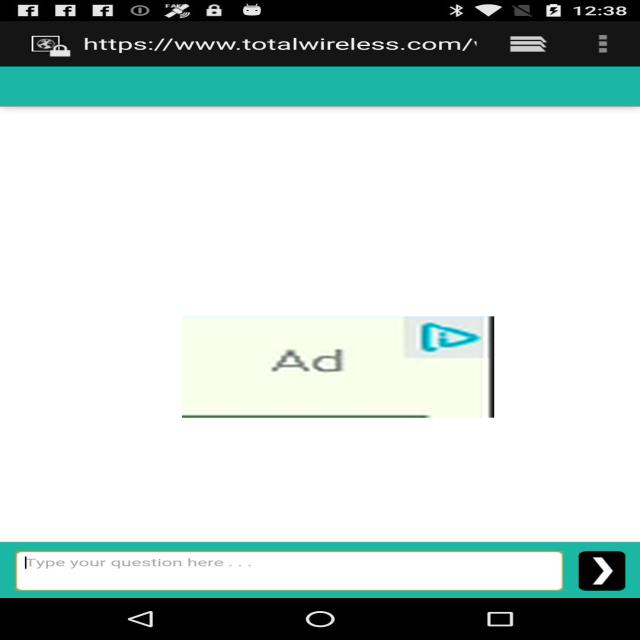sneaking: (182, 316, 494, 418)
